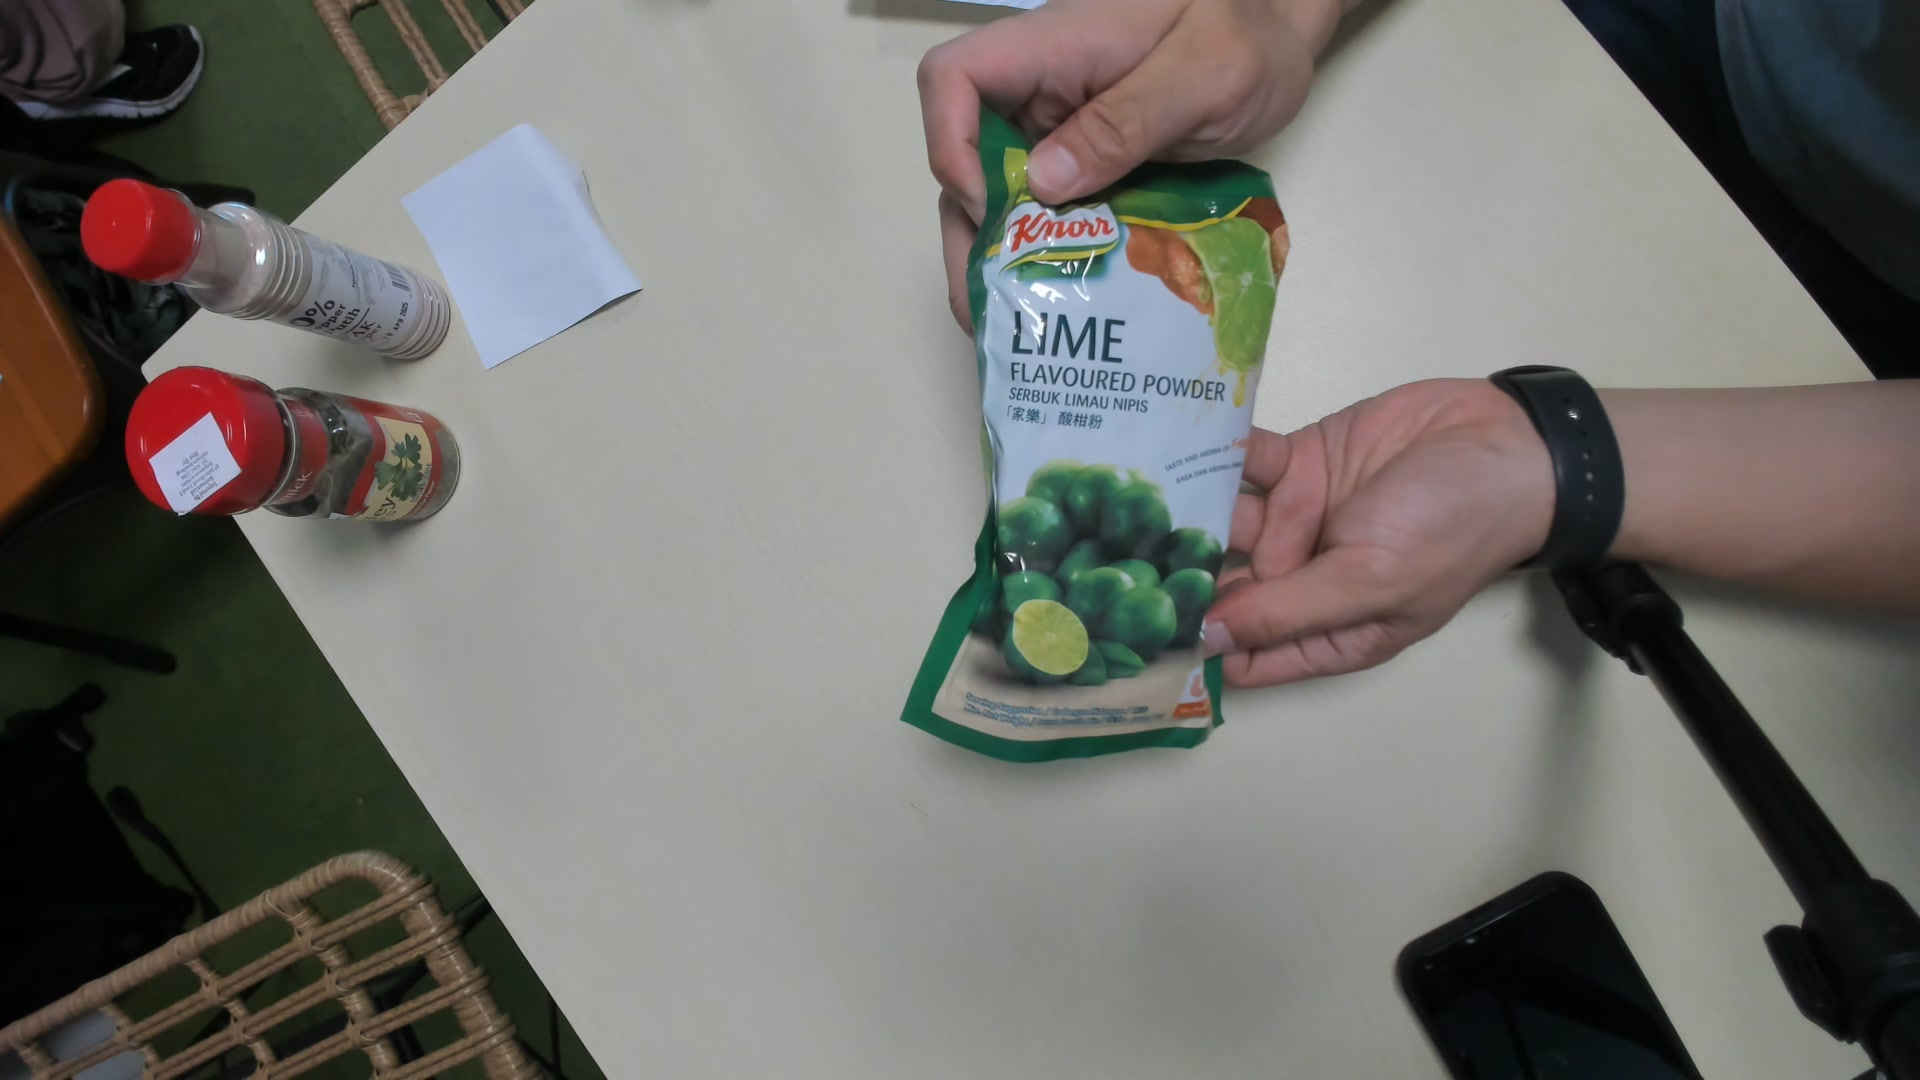HerbsSpicesPepper_400-499g_Halal_NonHealthy: (919, 132, 1287, 756)
